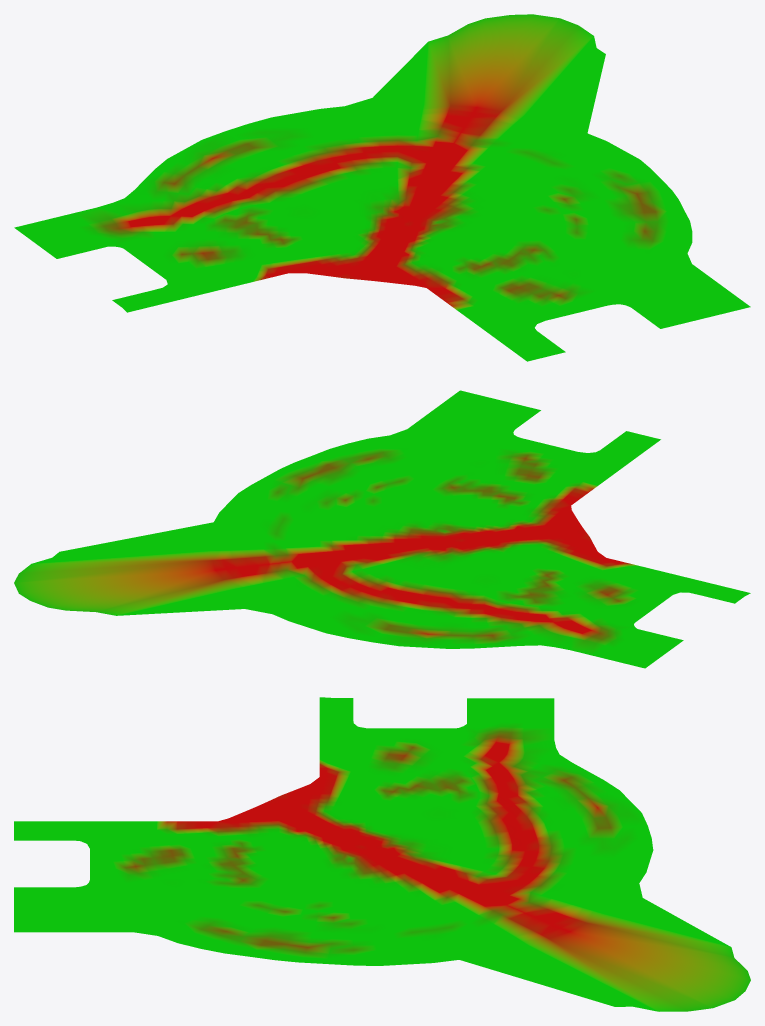
Rendered from pref_sm_garden_terrain_pinkgrass04a_lv3.fbx.
3 renders of one model, top to bottom at view 1: azimuth 30°, elevation 25°; view 2: azimuth 150°, elevation 25°; view 3: azimuth 270°, elevation 25°, orthographic. The views are drawn at different scales.
Parts seen in each view (by area): view 1: pref_sm_garden_terrain_pinkgrass04a_lv3; view 2: pref_sm_garden_terrain_pinkgrass04a_lv3; view 3: pref_sm_garden_terrain_pinkgrass04a_lv3.
Part boxes in pixels (x1=…): pref_sm_garden_terrain_pinkgrass04a_lv3: x1=14, y1=14, x2=750, y2=361; pref_sm_garden_terrain_pinkgrass04a_lv3: x1=14, y1=390, x2=750, y2=668; pref_sm_garden_terrain_pinkgrass04a_lv3: x1=14, y1=697, x2=750, y2=1011.
Bounding box in the file's own units: 54.57 × 0.000302 × 54.01.
